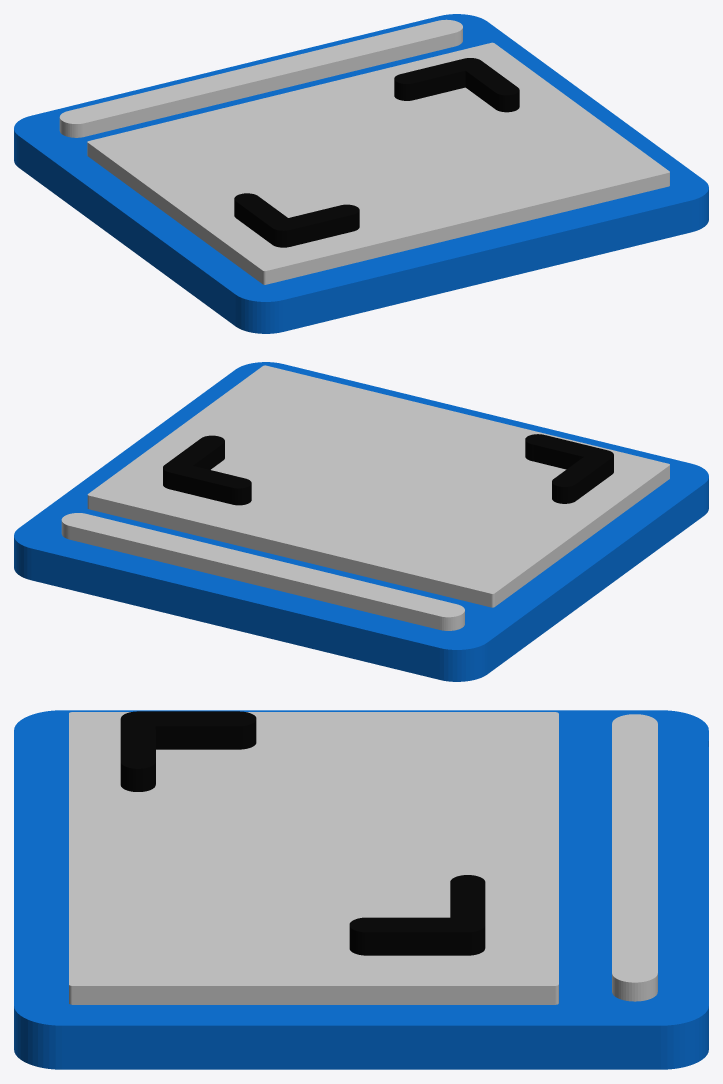
3 views of the same model, one above another, from view 1: azimuth 30°, elevation 25°; view 2: azimuth 150°, elevation 25°; view 3: azimuth 270°, elevation 25° (orthographic). The views are drawn at different scales.
Parts seen in each view (by area): view 1: Curve.002_CUXMLID_6_; view 2: Curve.002_CUXMLID_6_; view 3: Curve.002_CUXMLID_6_.
Boxes of the visible parts, left/top/right/bottom form: Curve.002_CUXMLID_6_: left=14, top=14, right=708, bottom=333; Curve.002_CUXMLID_6_: left=14, top=362, right=708, bottom=681; Curve.002_CUXMLID_6_: left=14, top=710, right=708, bottom=1069.
Size of the model in its own units: 0.342 by 0.0436 by 0.3184.
